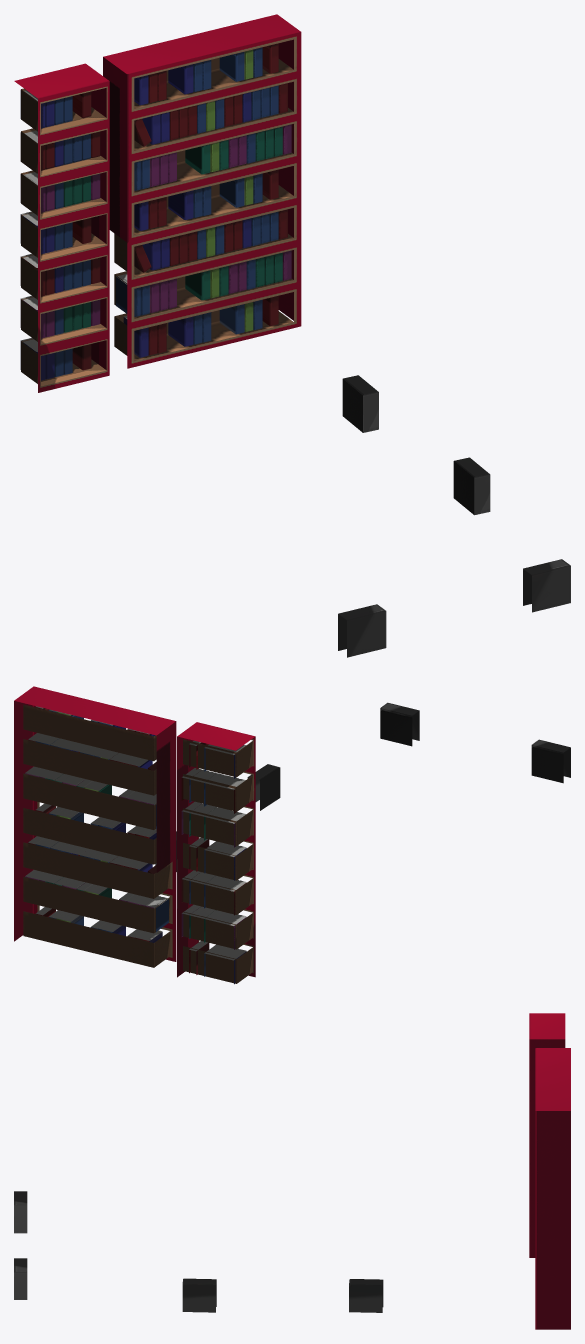
The model's file is Tx_props_research_bookshelf.fbx.
The picture shows the model from 3 angles, top to bottom: view 1: azimuth 30°, elevation 25°; view 2: azimuth 150°, elevation 25°; view 3: azimuth 270°, elevation 25°; orthographic projection. The views are drawn at different scales.
Visible parts, largest first — view 1: Tx_props_research_bookshelf; view 2: Tx_props_research_bookshelf; view 3: Tx_props_research_bookshelf.
Part boxes in pixels (<box>): Tx_props_research_bookshelf: <box>14,14,570,657</box>; Tx_props_research_bookshelf: <box>14,686,570,984</box>; Tx_props_research_bookshelf: <box>14,1013,570,1329</box>.
Size of the model in its own units: 23.32 by 21.58 by 49.61.
